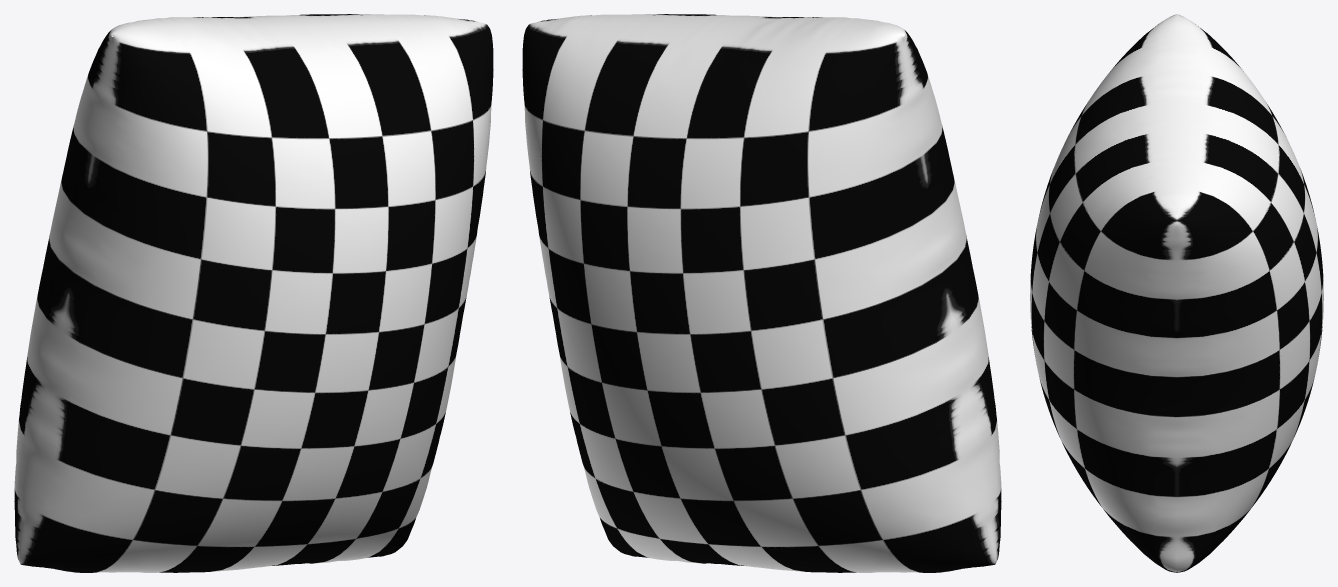
Rendered from mm_project.glb.
3 renders of one model, left to right at view 1: azimuth 30°, elevation 25°; view 2: azimuth 150°, elevation 25°; view 3: azimuth 270°, elevation 25°, orthographic. The views are drawn at different scales.
Size of the model in its own units: 6.66 by 7.93 by 4.64.
1 material, 1 textured.
